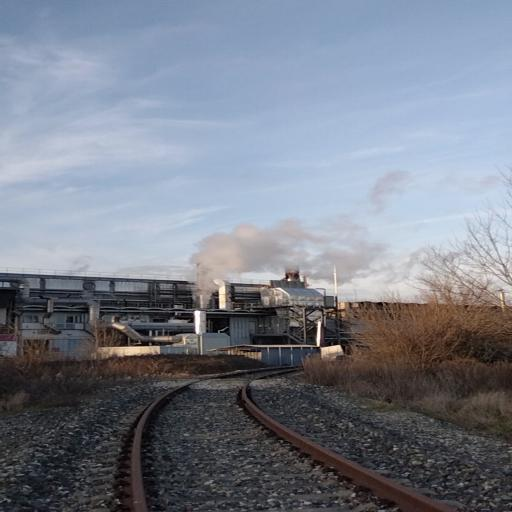leakage: (173, 168, 461, 313)
